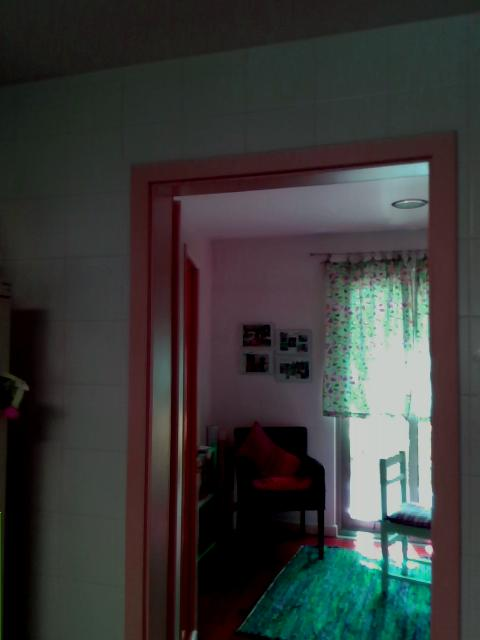open_door: (137, 143, 444, 639)
